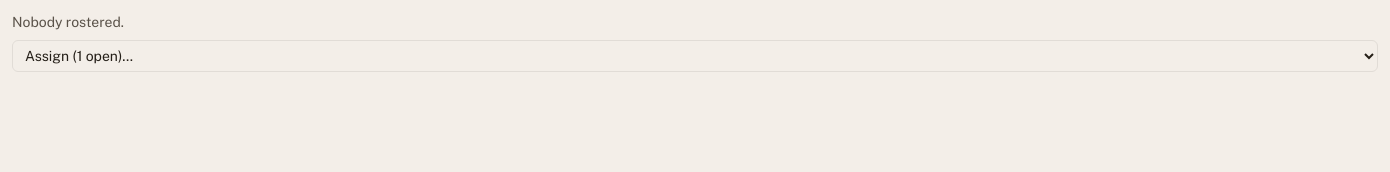
SlotCell › shows the action error and does not refresh
Click the dropdown named "Assign a person": [695, 56] box [12,40,1378,72]
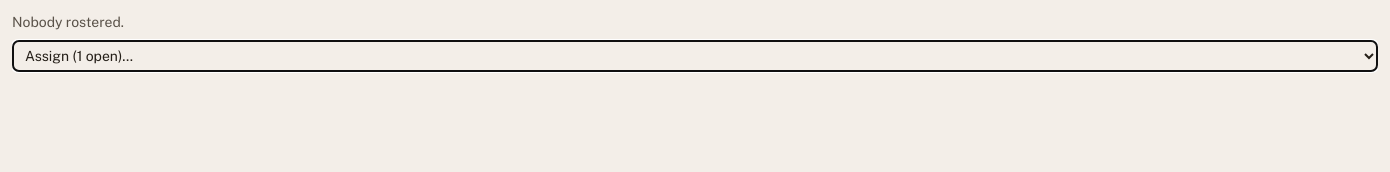
Select "Bo Kim (never served)" in the dropdown named "Assign a person": [695, 56] box [12,40,1378,72]
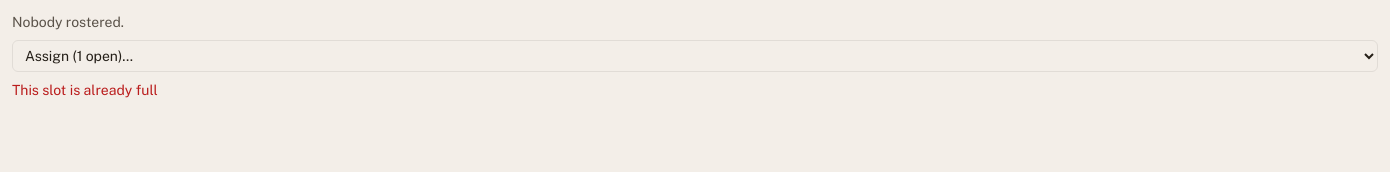
Result: the text "This slot is already full" is shown at [12,82,158,98]
